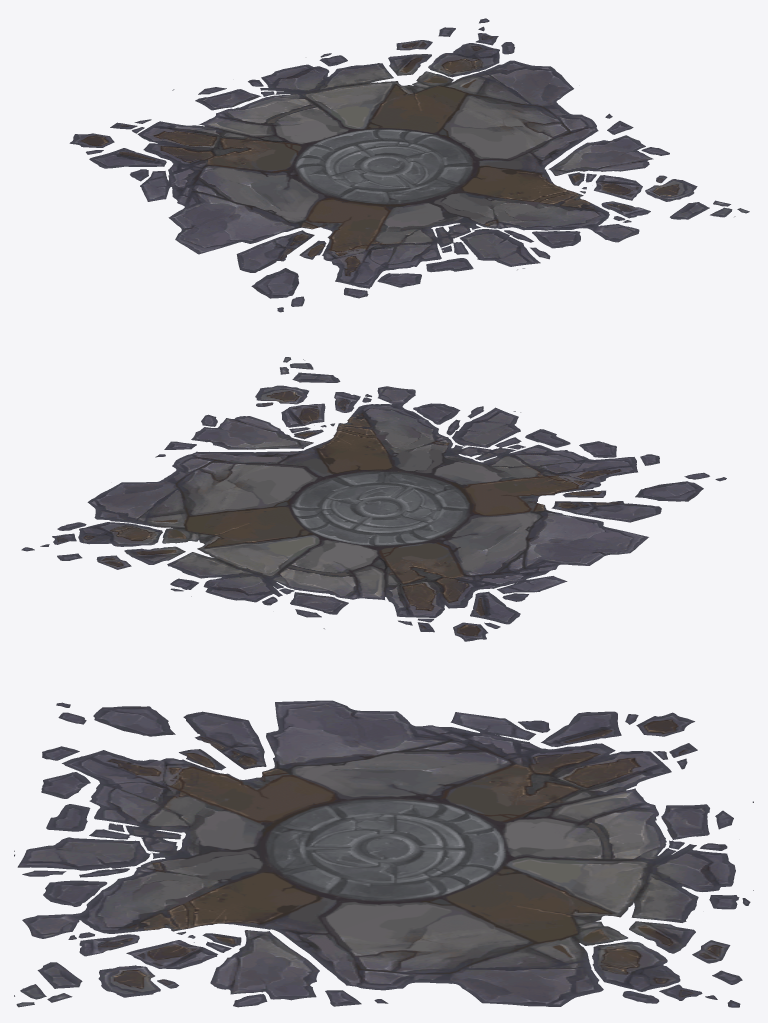
Rendered from yw_shanlin_pingtai_021.FBX.
3 renders of one model, top to bottom at view 1: azimuth 30°, elevation 25°; view 2: azimuth 150°, elevation 25°; view 3: azimuth 270°, elevation 25°, orthographic. The views are drawn at different scales.
Visible parts, largest first — view 1: yw_shanlin_pingtai_021; view 2: yw_shanlin_pingtai_021; view 3: yw_shanlin_pingtai_021.
Boxes of the visible parts, x1,y1,x2,y2 form: yw_shanlin_pingtai_021: (69, 18, 749, 312); yw_shanlin_pingtai_021: (21, 357, 726, 641); yw_shanlin_pingtai_021: (14, 700, 753, 1007).
Bounding box in the file's own units: 387 × 3.4 × 387.
